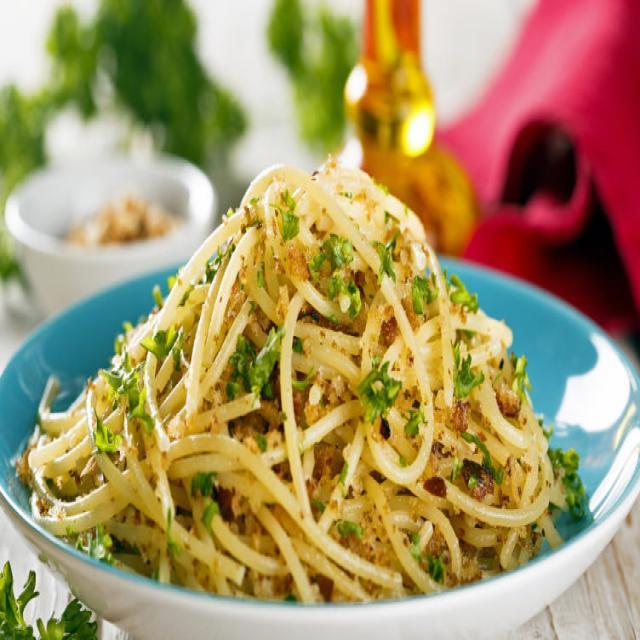Oil pasta: (67, 103, 639, 637)
